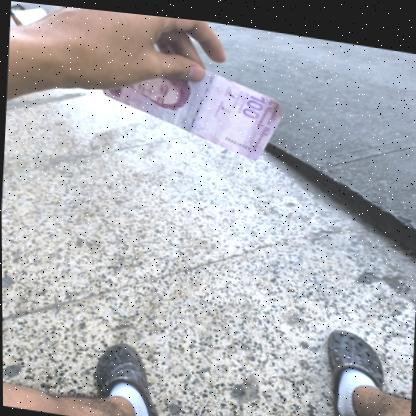one_hundred-front-vef: (98, 48, 290, 159)
